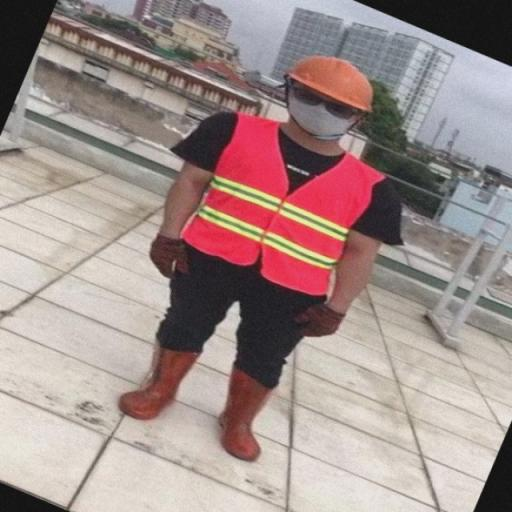Person: (121, 14, 383, 465)
boots: (114, 340, 216, 436), (216, 353, 293, 469)
gloves: (281, 280, 352, 342), (146, 224, 200, 286)
goggles: (278, 80, 366, 116)
helmet: (280, 48, 382, 112)
vest: (191, 104, 396, 320)
